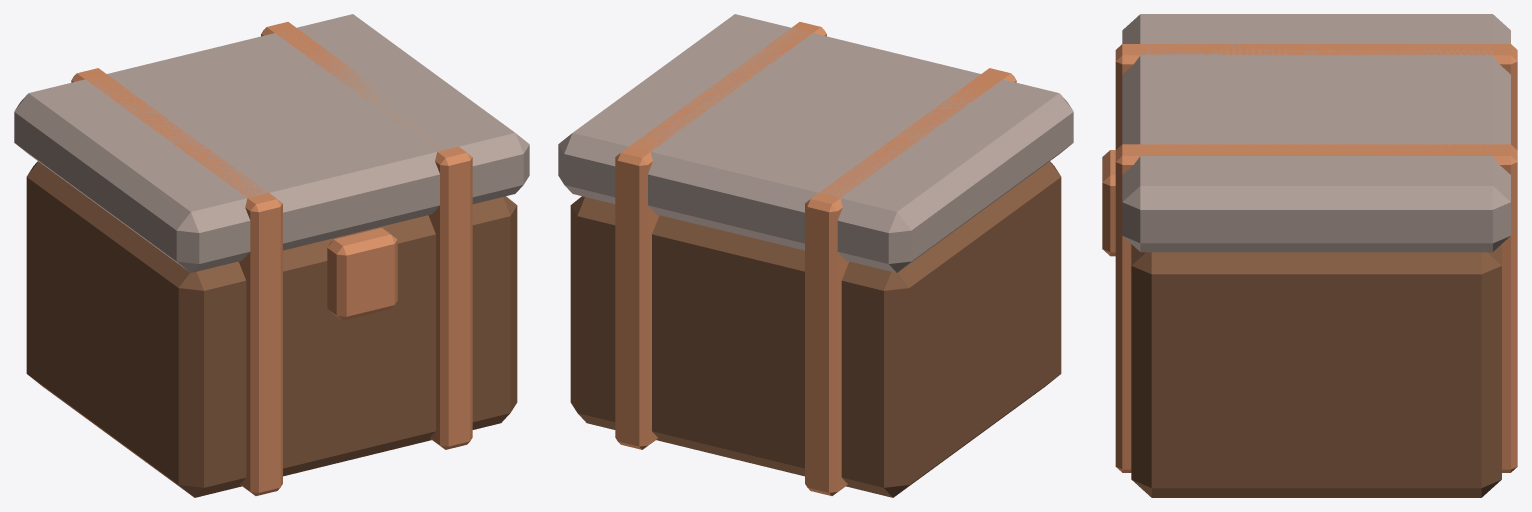
File: treasure_chest.glb
The picture shows the model from 3 angles, left to right: view 1: azimuth 30°, elevation 25°; view 2: azimuth 150°, elevation 25°; view 3: azimuth 270°, elevation 25°; orthographic projection. The views are drawn at different scales.
Bounding box in the file's own units: 0.98 × 0.774 × 0.9196.
